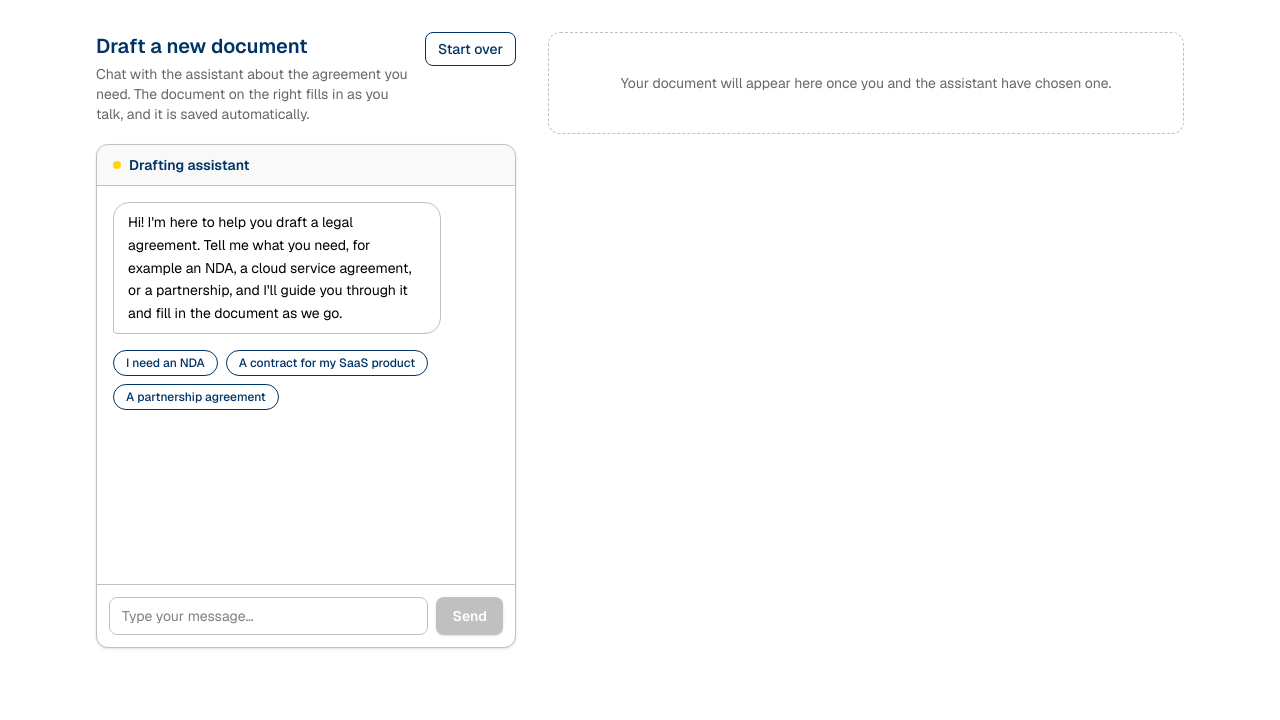
it: DraftingApp › does not show a document when the AI declines and offers something else
In the field labelled "message": coordinates (269, 616) [109,597,428,635], type "I need a lease"
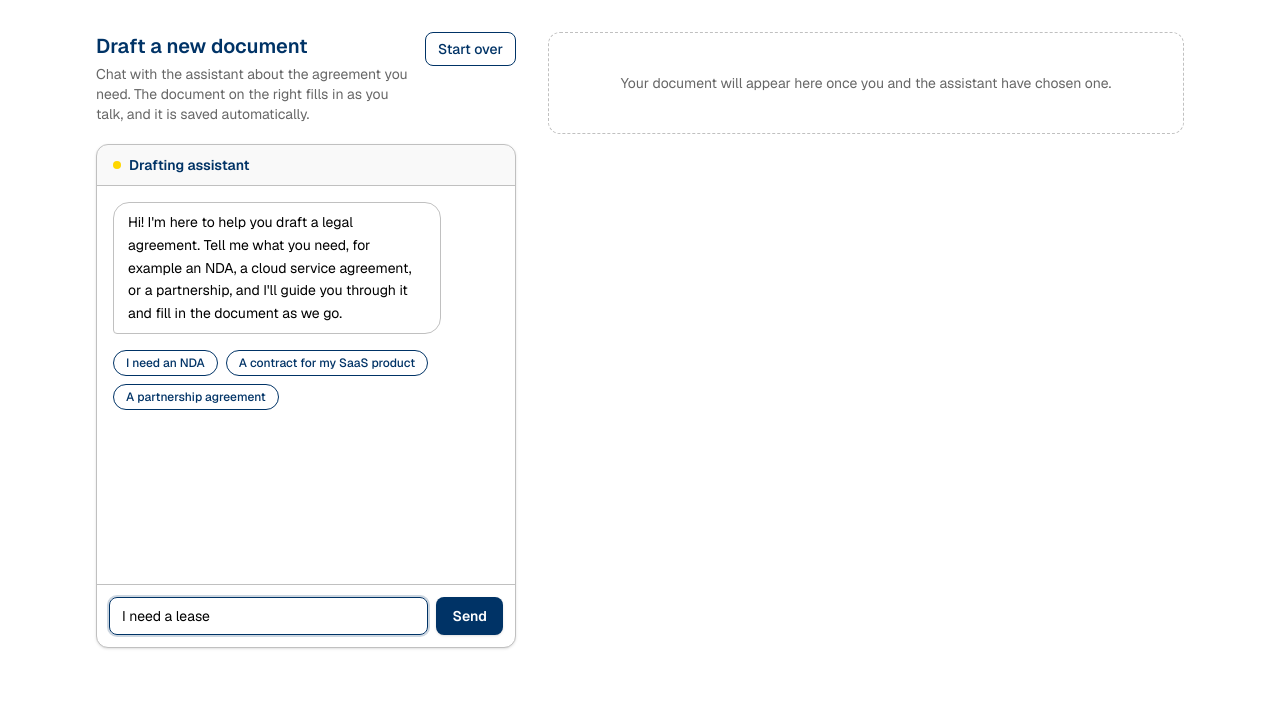
Click the button "Send": coordinates (470, 616) [436,597,503,635]
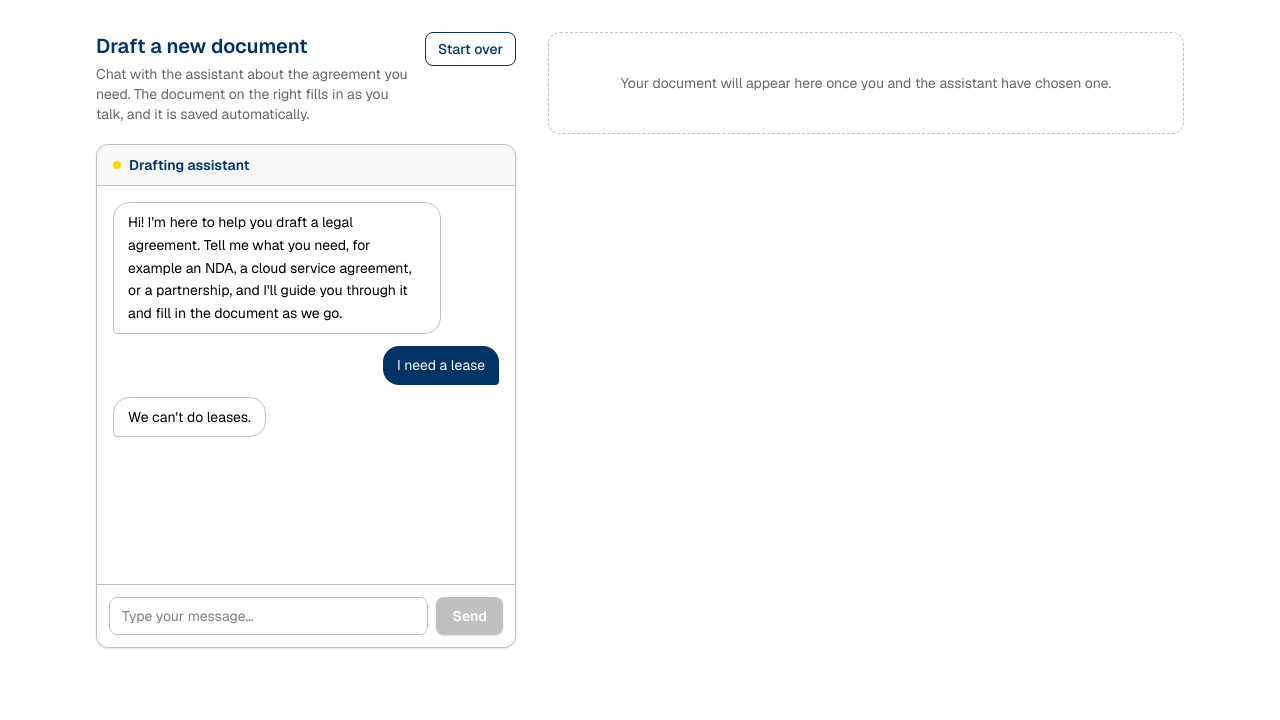
Expected: the text "document will appear here" is shown, [621,74,1111,92]
Expected: the text "We can't do leases." is shown, [113,396,266,437]
